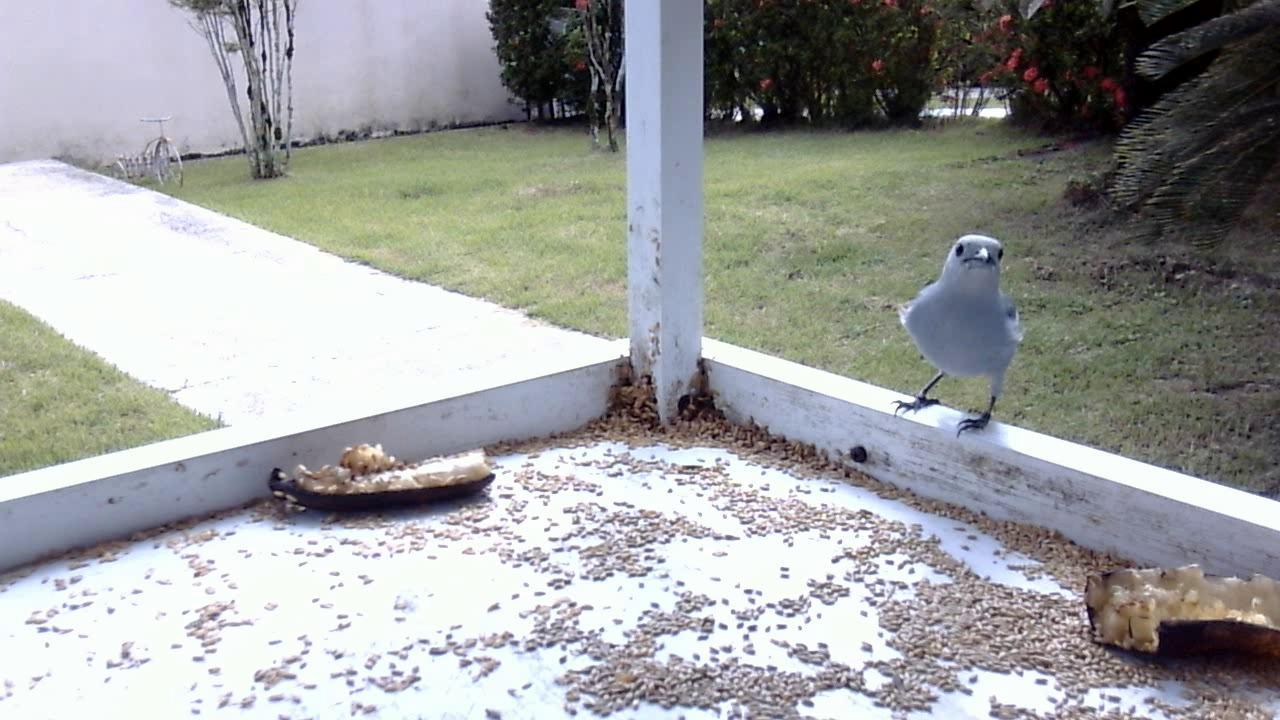sanhaco_da_amazonia: (889, 234, 1026, 439)
